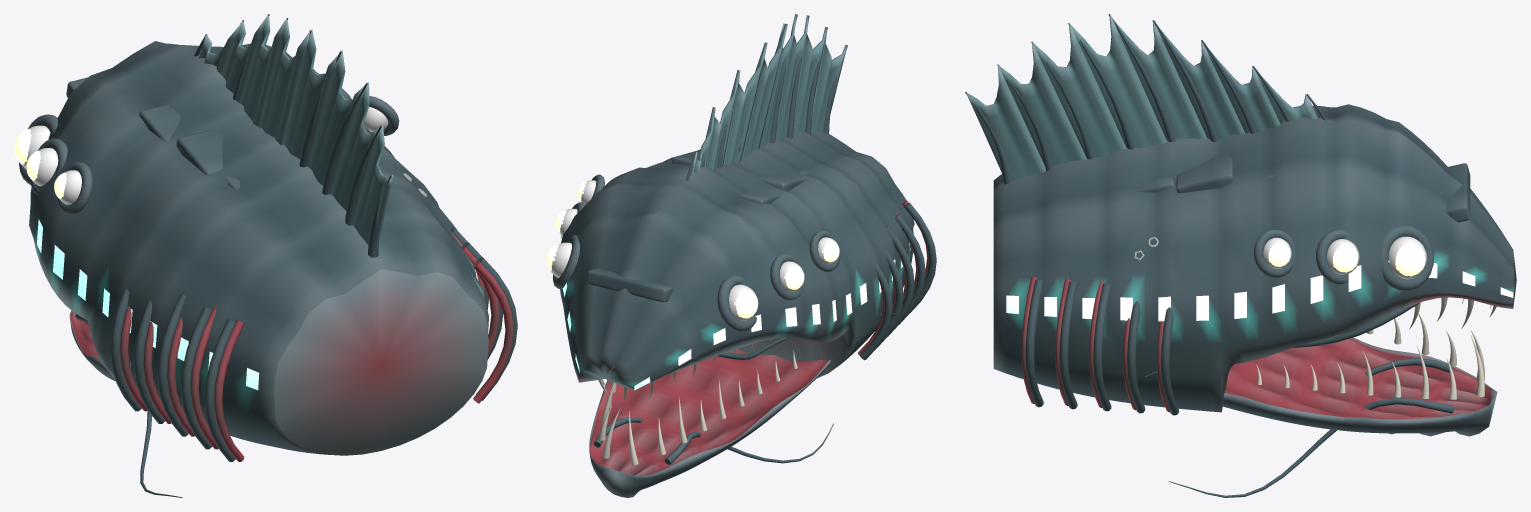
Rendered from enemy_leviathan_head.glb.
The picture shows the model from 3 angles, left to right: view 1: azimuth 30°, elevation 25°; view 2: azimuth 150°, elevation 25°; view 3: azimuth 270°, elevation 25°; orthographic projection. The views are drawn at different scales.
Parts seen in each view (by area): view 1: LeviathanHeadMesh; view 2: LeviathanHeadMesh; view 3: LeviathanHeadMesh.
Part boxes in pixels (left/top/right/bottom): LeviathanHeadMesh: left=14, top=14, right=517, bottom=497; LeviathanHeadMesh: left=546, top=14, right=936, bottom=497; LeviathanHeadMesh: left=965, top=14, right=1516, bottom=497.
Bounding box in the file's own units: 2.99 × 3.99 × 4.57.
